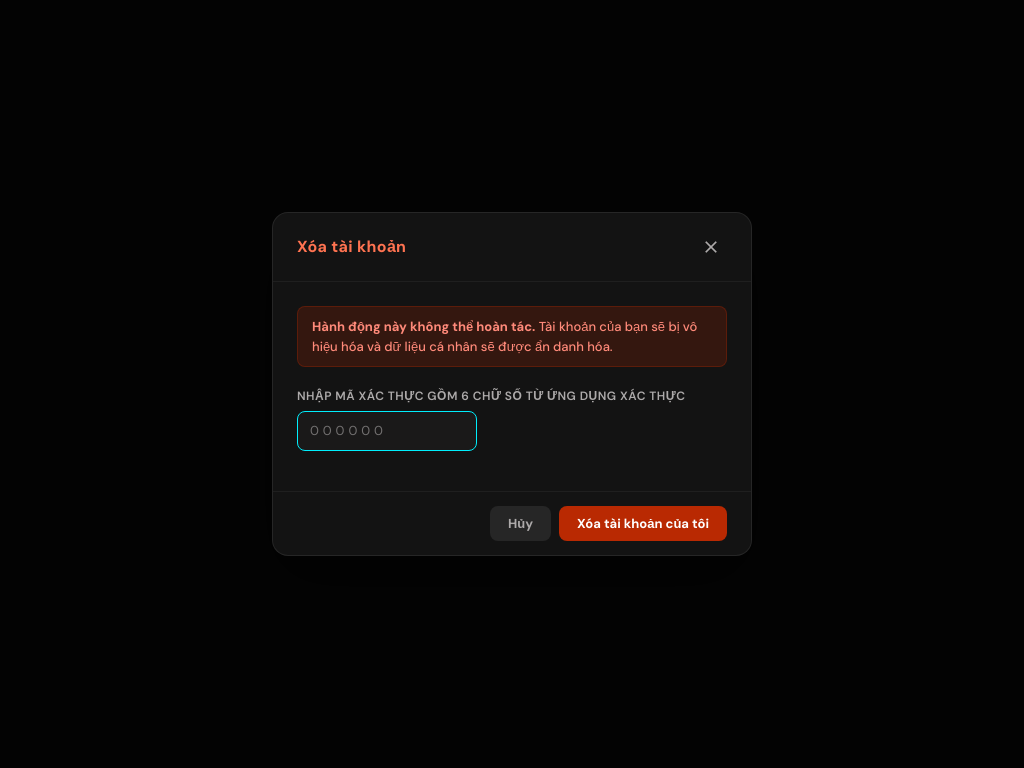
Test case: DeleteAccountModal › mfaEnabled=true › shows validation error when OTP is incomplete
This screenshot has width=1024, height=768.
// Leave OTP blank, click confirm
Click the button "Xóa tài khoản của tôi" at (643, 523), box [559, 506, 727, 541]
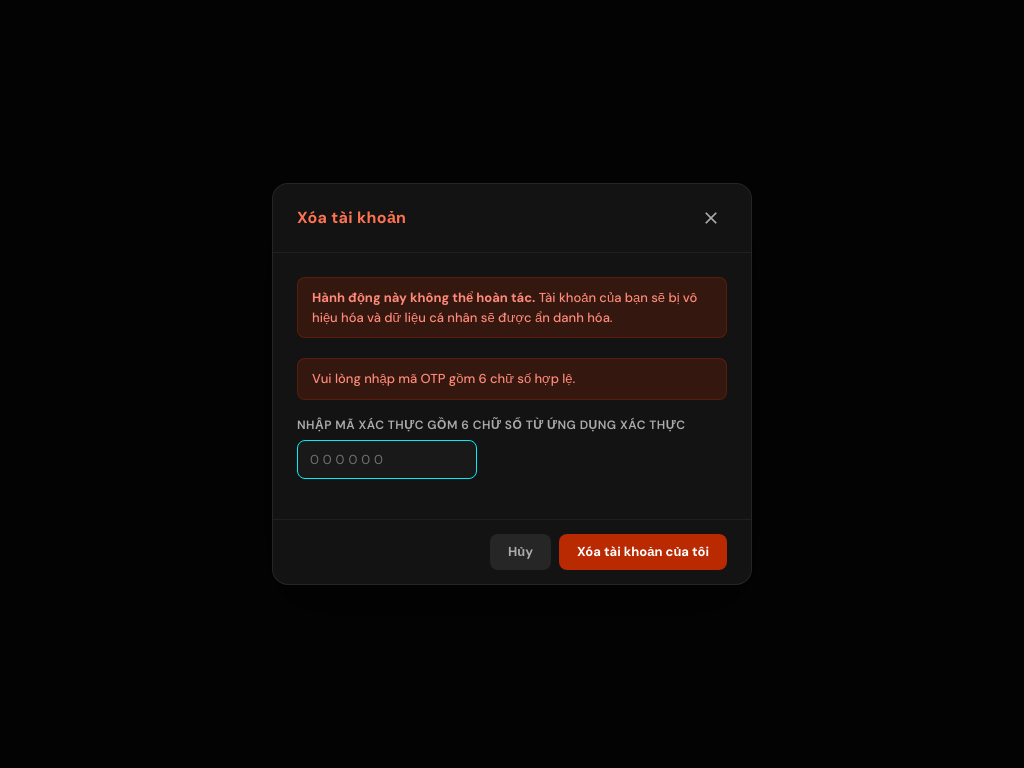
expect the text "Vui lòng nhập mã OTP gồm 6 chữ số hợp lệ." is shown: met, box [297, 358, 727, 400]
